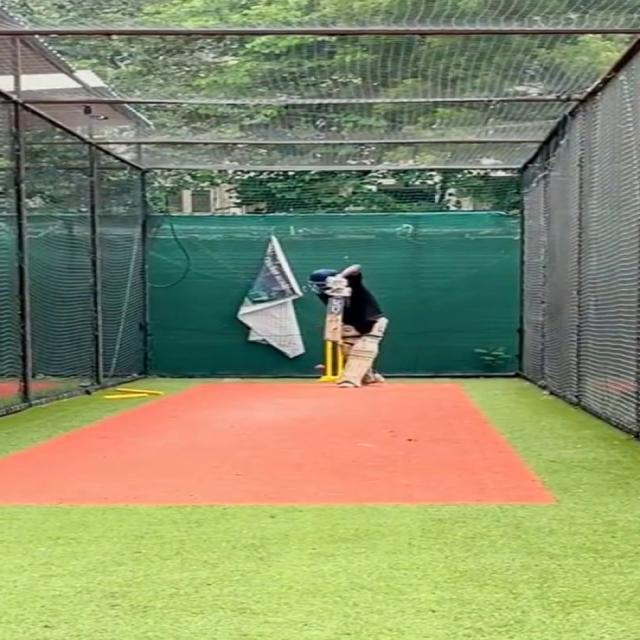ball: (313, 364, 325, 371)
stump: (321, 341, 346, 382)
